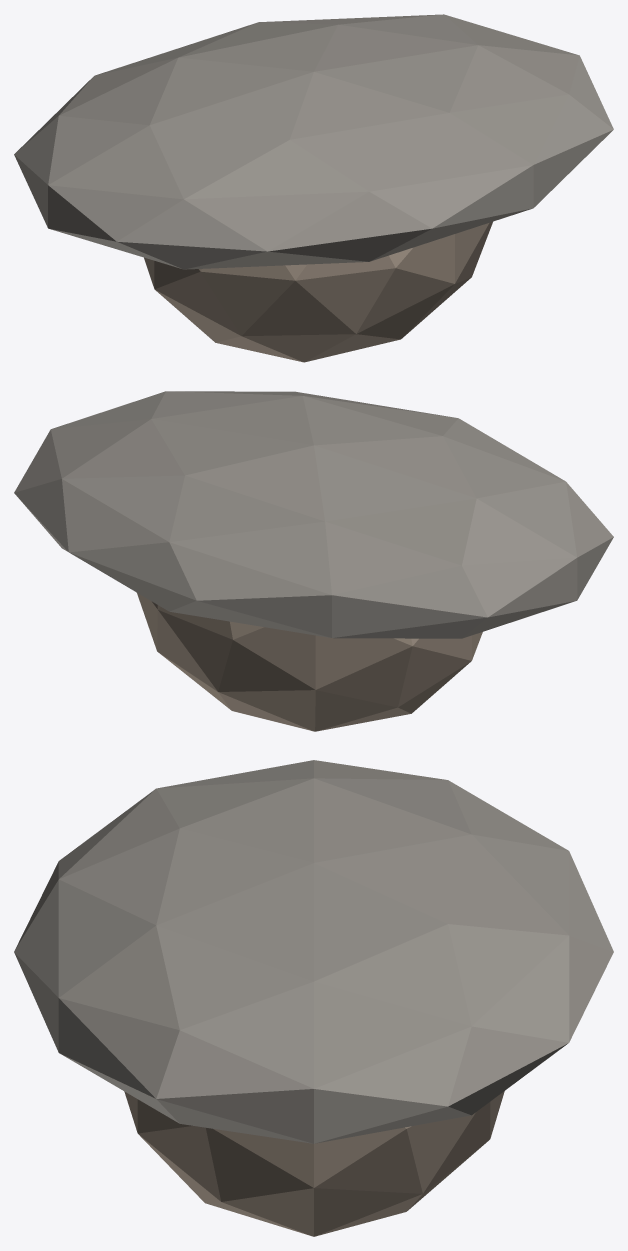
The model's file is rocks.glb.
The picture shows the model from 3 angles, top to bottom: view 1: azimuth 30°, elevation 25°; view 2: azimuth 150°, elevation 25°; view 3: azimuth 270°, elevation 25°; orthographic projection. The views are drawn at different scales.
Visible parts, largest first — view 1: Rock_Flat, Rock_Medium; view 2: Rock_Flat, Rock_Medium; view 3: Rock_Flat, Rock_Medium.
Part boxes in pixels (<box>): Rock_Flat: <box>14,14,613,269</box>; Rock_Medium: <box>144,221,492,362</box>; Rock_Flat: <box>14,391,613,638</box>; Rock_Medium: <box>137,593,482,731</box>; Rock_Flat: <box>14,760,613,1143</box>; Rock_Medium: <box>124,1091,504,1236</box>.
Bounding box in the file's own units: 1.43 × 0.7 × 1.1.
